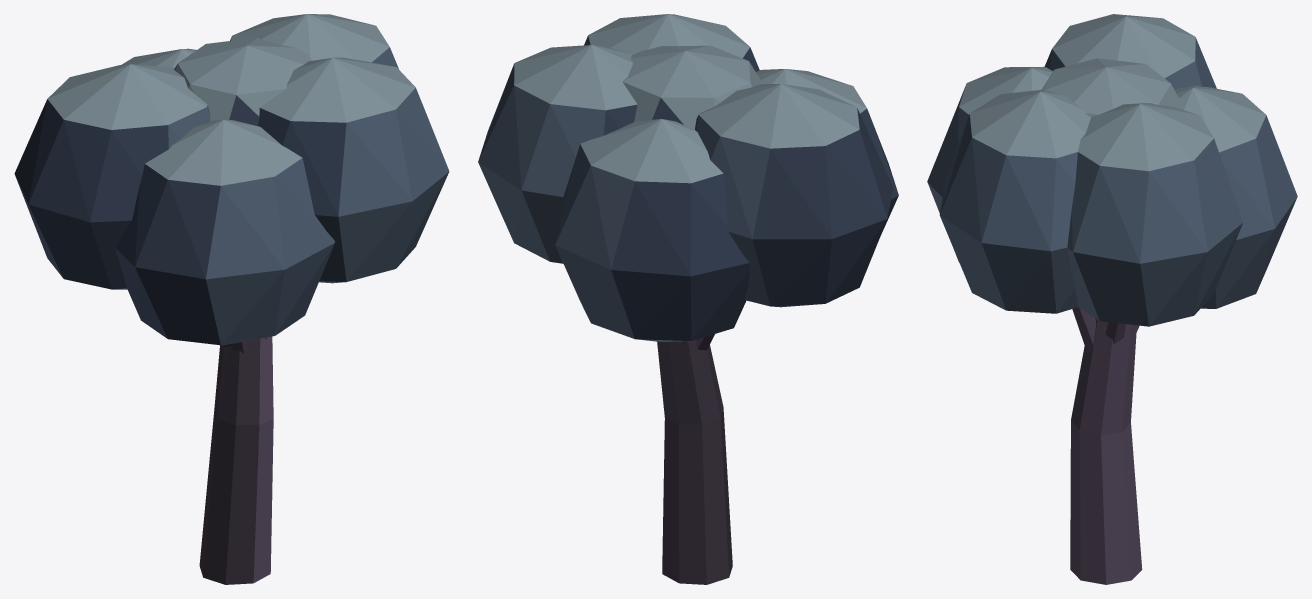
Rendered from TW_TREE_ROUND_BROAD_B_LOD0.glb.
3 renders of one model, left to right at view 1: azimuth 30°, elevation 25°; view 2: azimuth 150°, elevation 25°; view 3: azimuth 270°, elevation 25°, orthographic. The views are drawn at different scales.
Parts seen in each view (by area): view 1: TW_TREE_ROUND_BROAD_B_LOD0; view 2: TW_TREE_ROUND_BROAD_B_LOD0; view 3: TW_TREE_ROUND_BROAD_B_LOD0.
Part boxes in pixels (x1=…): TW_TREE_ROUND_BROAD_B_LOD0: x1=14, y1=14, x2=449, y2=584; TW_TREE_ROUND_BROAD_B_LOD0: x1=478, y1=14, x2=898, y2=584; TW_TREE_ROUND_BROAD_B_LOD0: x1=927, y1=14, x2=1297, y2=584.
Size of the model in its own units: 2.92 by 3.7 by 2.44.
1 material, 1 textured.
